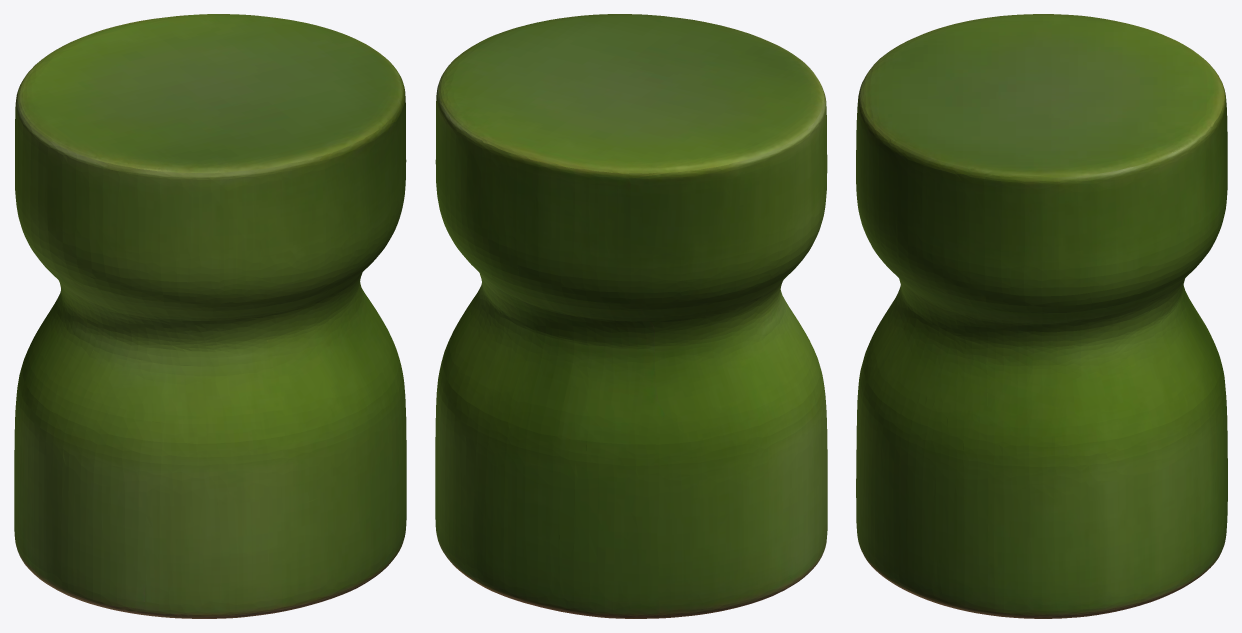
Rendered from stool.glb.
3 renders of one model, left to right at view 1: azimuth 30°, elevation 25°; view 2: azimuth 150°, elevation 25°; view 3: azimuth 270°, elevation 25°, orthographic.
Visible parts, largest first — view 1: geometry_0; view 2: geometry_0; view 3: geometry_0.
Boxes of the visible parts, x1,y1,x2,y2 form: geometry_0: (14, 14, 406, 618); geometry_0: (435, 14, 827, 618); geometry_0: (856, 14, 1227, 618).
Size of the model in its own units: 0.7915 by 0.9988 by 0.7478.
1 material, 1 textured.
